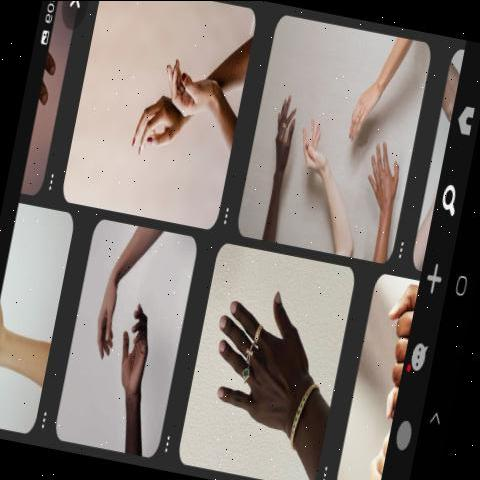Hands: (214, 284, 324, 458), (297, 109, 353, 264), (157, 43, 239, 126), (116, 294, 166, 424), (263, 84, 301, 255), (112, 95, 192, 175), (366, 141, 398, 259), (344, 59, 386, 145), (90, 246, 120, 366)
